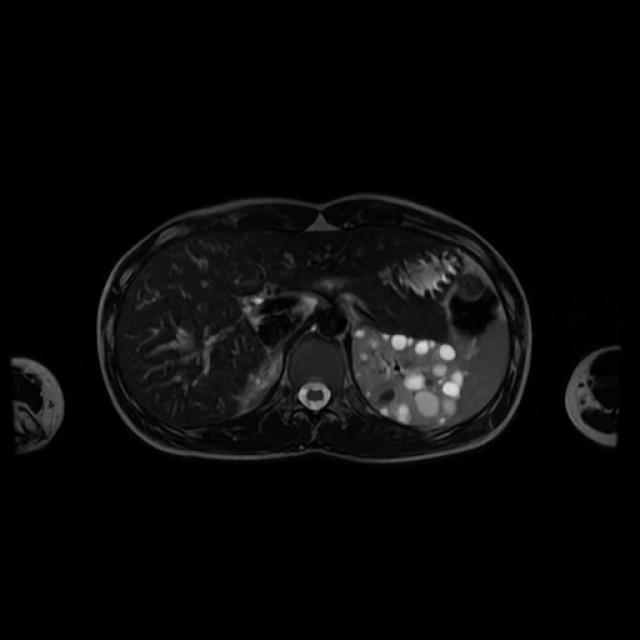sag: (245, 367, 275, 405)
sol: (354, 326, 464, 424)
